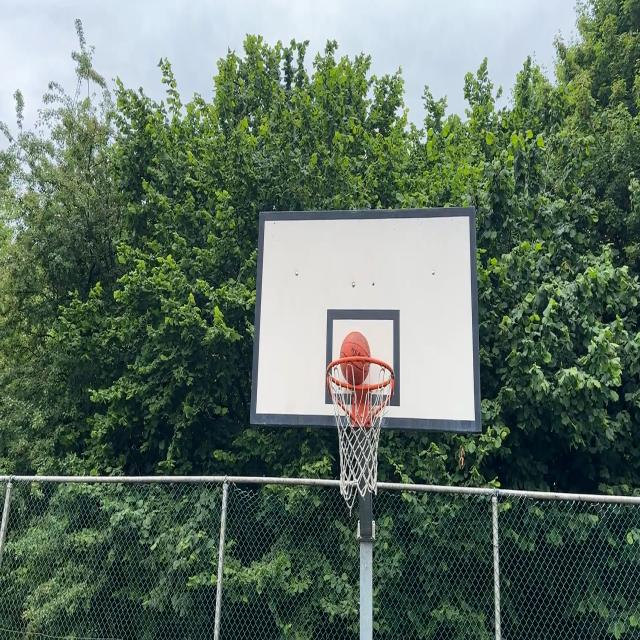rebound_hit: (340, 332, 372, 386)
